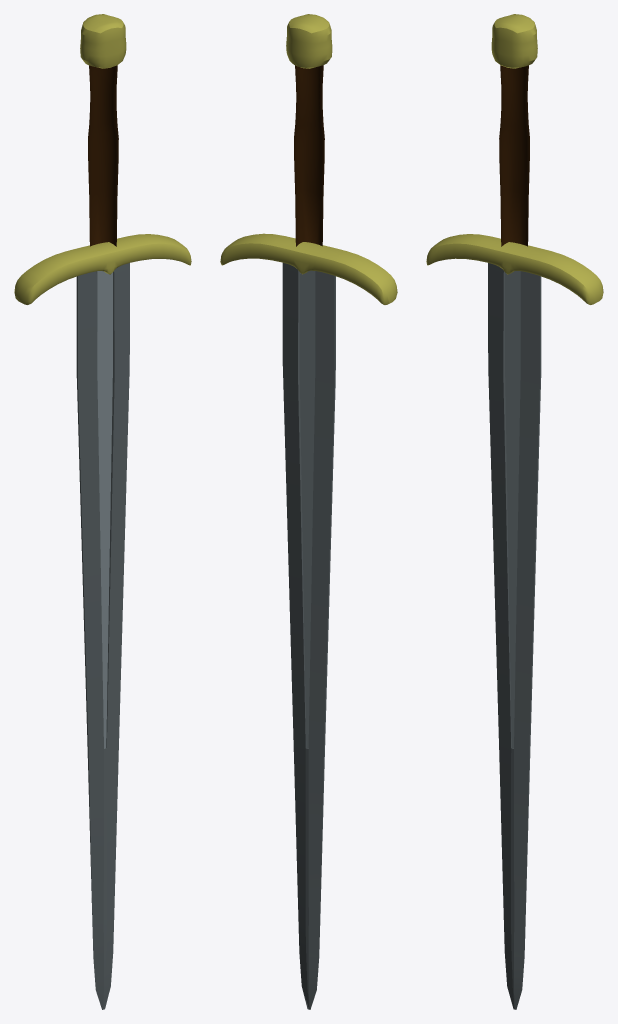
The model's file is Sword.glb.
The picture shows the model from 3 angles, left to right: view 1: azimuth 30°, elevation 25°; view 2: azimuth 150°, elevation 25°; view 3: azimuth 330°, elevation 25°; orthographic projection.
Visible parts, largest first — view 1: Lame, poigne, garde, pomeau; view 2: Lame, poigne, garde, pomeau; view 3: Lame, poigne, garde, pomeau.
Part boxes in pixels (x1,y1,x2,y2): Lame: (76,263,129,1009); poigne: (88,65,118,246); garde: (14,234,191,304); pomeau: (80,14,126,68); Lame: (282,263,335,1009); poigne: (294,65,324,246); garde: (220,233,397,304); pomeau: (286,14,332,68); Lame: (488,263,541,1009); poigne: (499,65,529,246); garde: (426,234,603,304); pomeau: (491,14,537,68).
Bounding box in the file's own units: 0.2547 × 1.43 × 0.0508.
